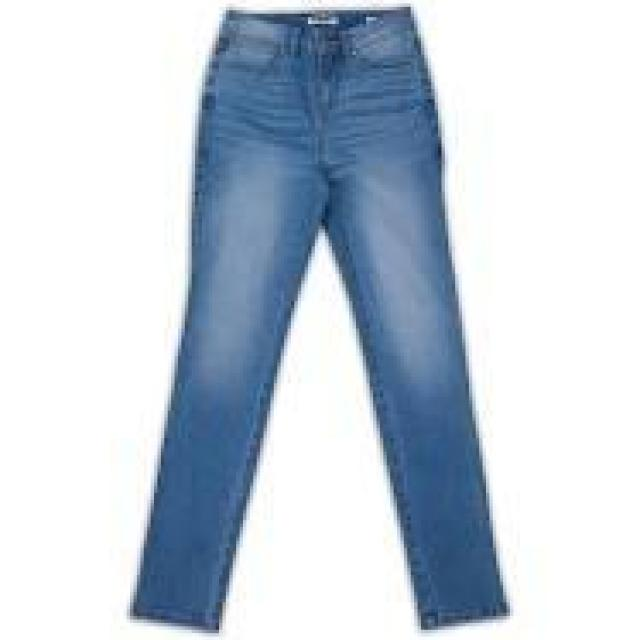pants: (138, 7, 504, 626)
